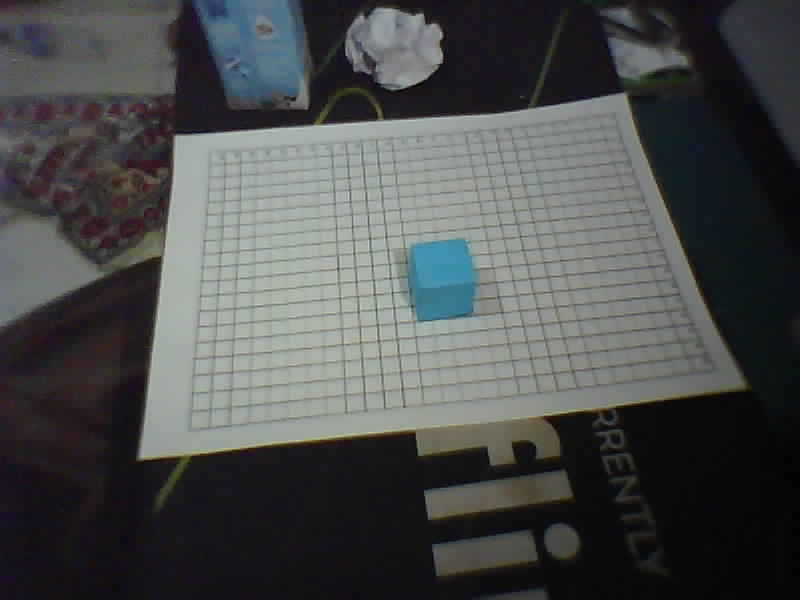LB: (185, 426, 193, 432)
LT: (206, 148, 214, 154)
RB: (711, 367, 719, 373)
RT: (611, 111, 619, 117)
